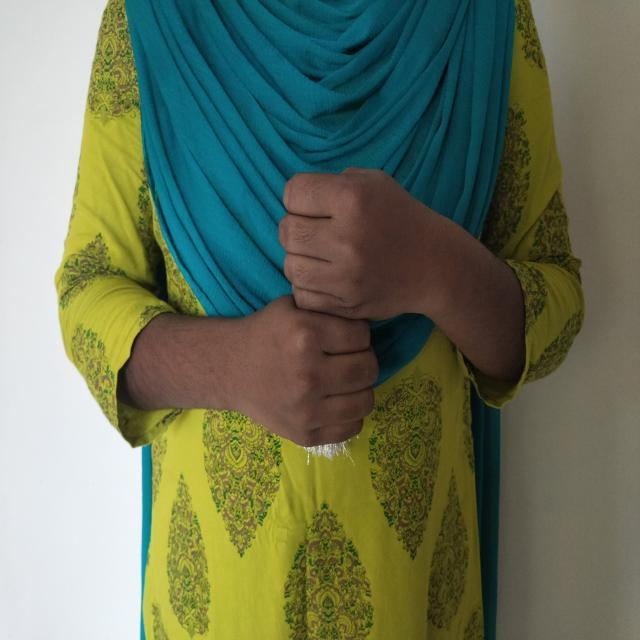G: (193, 126, 481, 491)
